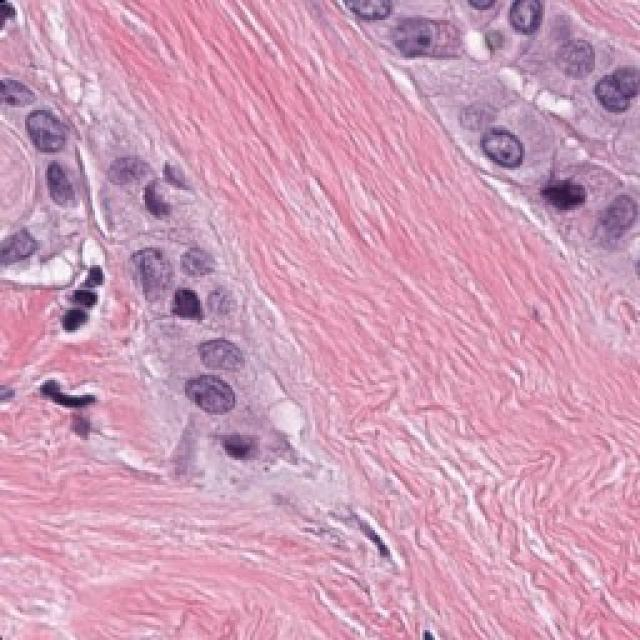abnormal: (365, 2, 483, 81), (166, 358, 251, 433), (471, 114, 549, 191), (116, 235, 182, 325), (20, 97, 80, 176), (587, 36, 637, 128), (593, 170, 640, 267), (204, 323, 256, 381), (559, 22, 604, 87)
